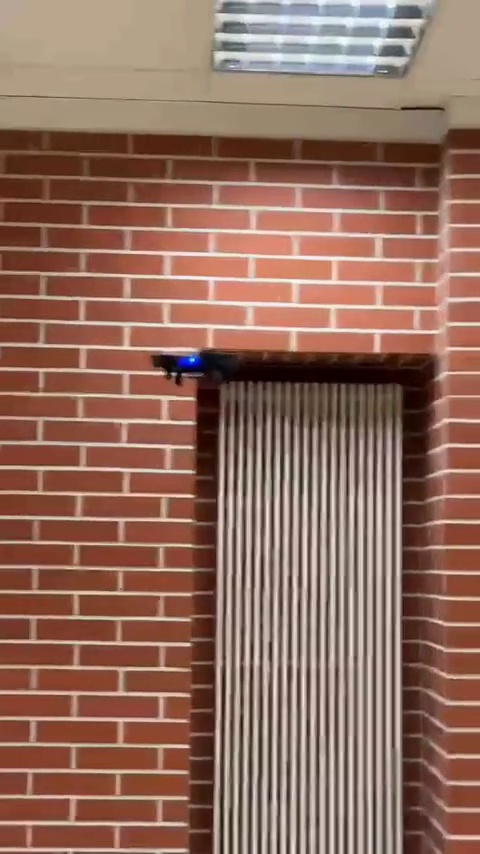drone: (149, 351, 233, 379)
